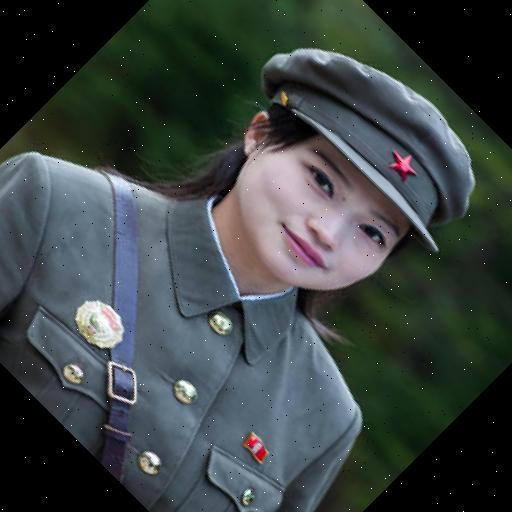north army: (3, 12, 467, 512)
